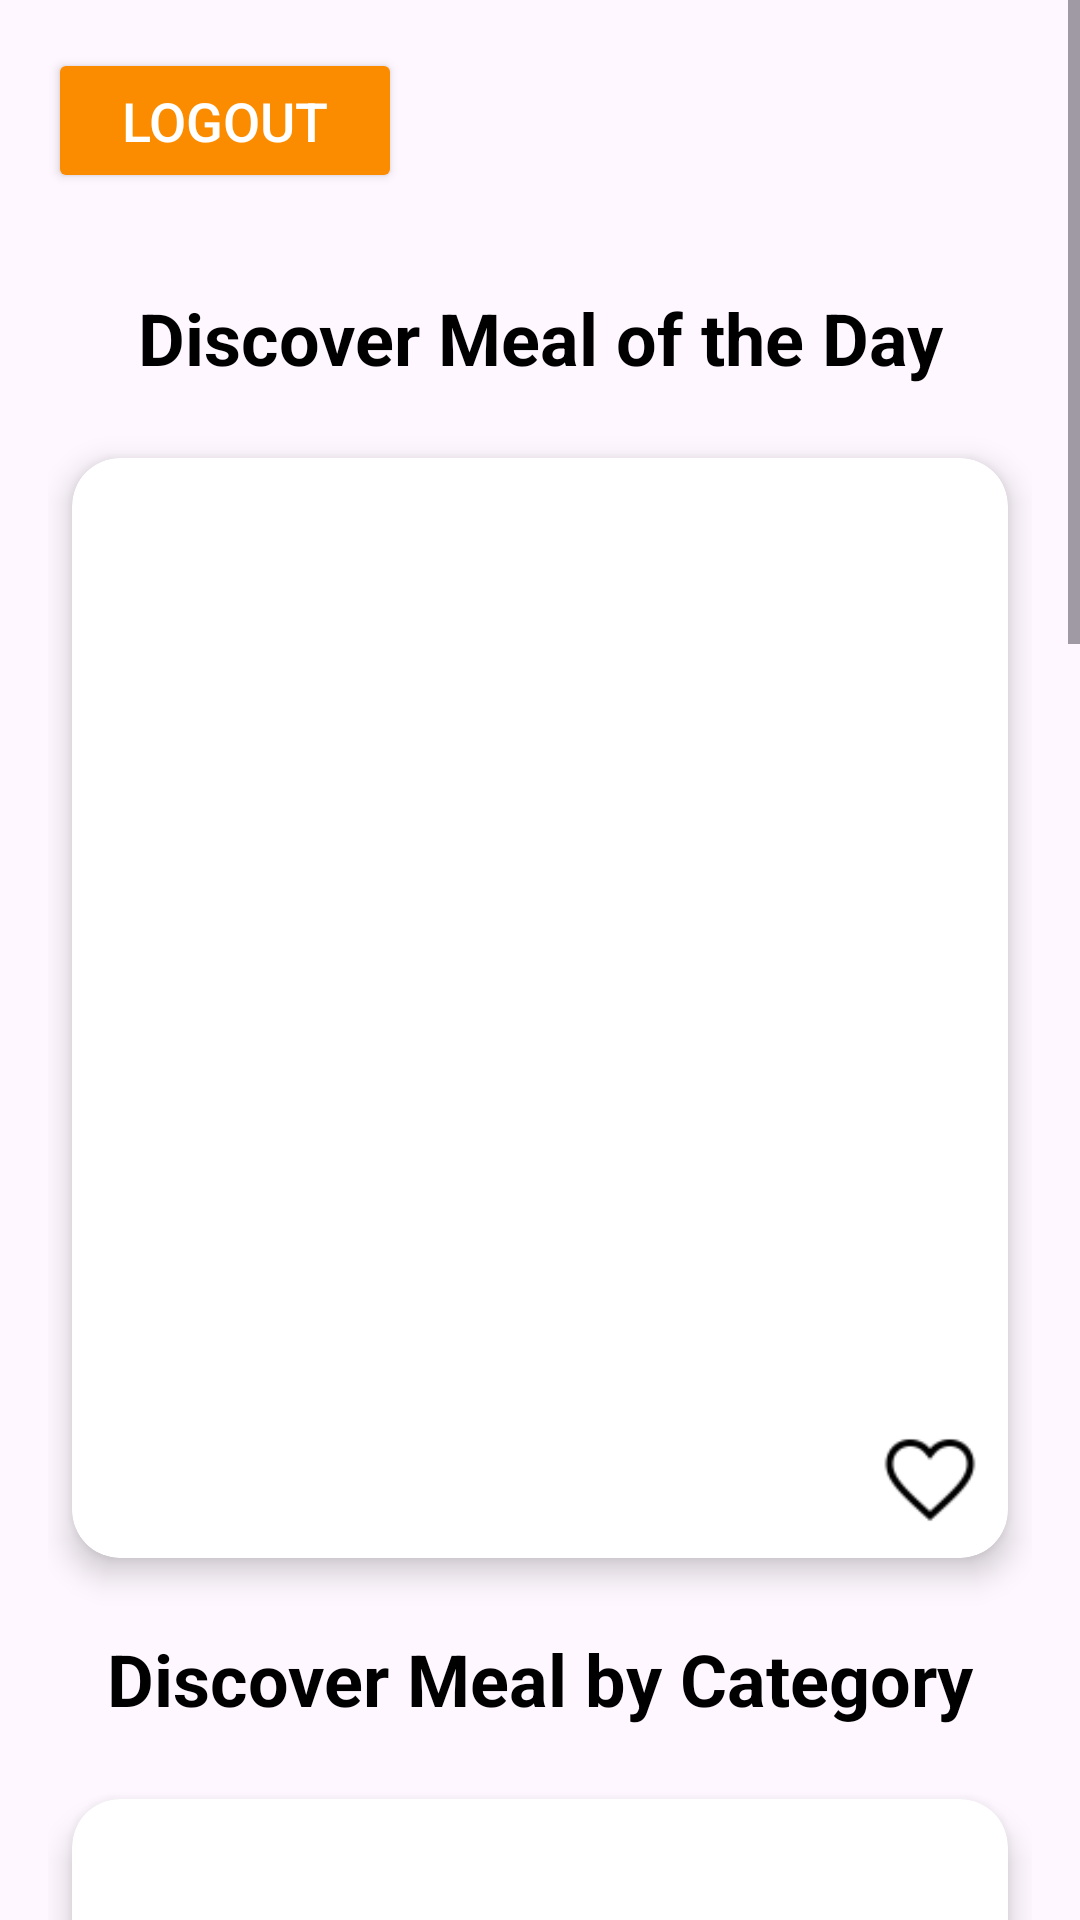

Screen size 1080px x 1920px. Icon name, then its center in pixels as point (x, y):
fav: point (930, 1480)
